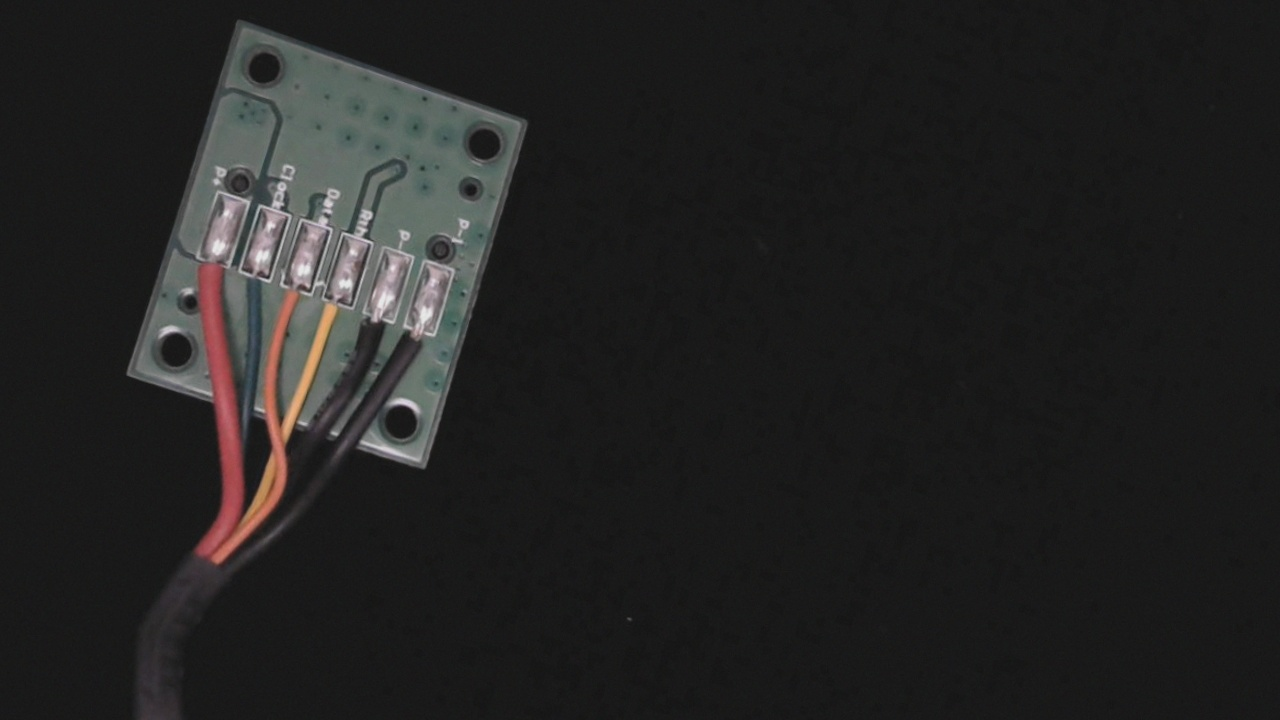Black: (344, 298, 397, 377)
Black1: (388, 311, 440, 386)
Green: (221, 255, 276, 332)
Orange: (260, 270, 316, 351)
Red: (180, 244, 237, 317)
Yellow: (301, 283, 357, 360)
